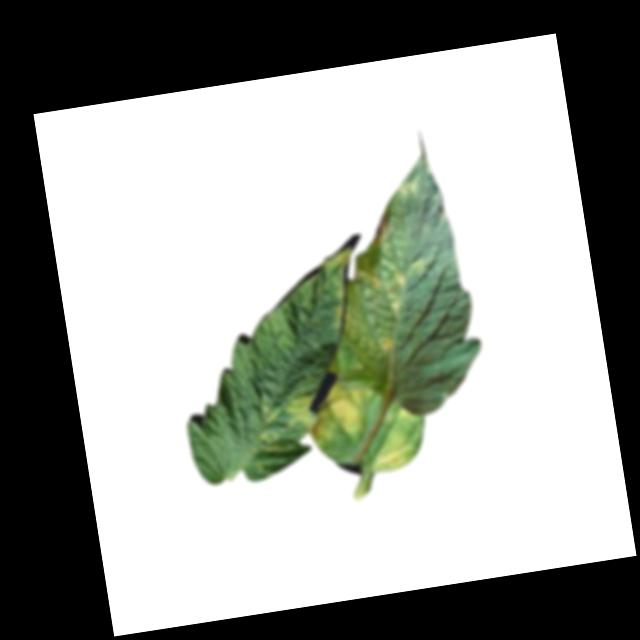Leaf_Mold: (305, 373, 377, 438), (255, 392, 319, 440), (364, 264, 415, 323), (365, 429, 413, 473), (365, 206, 394, 249), (374, 332, 394, 355)
